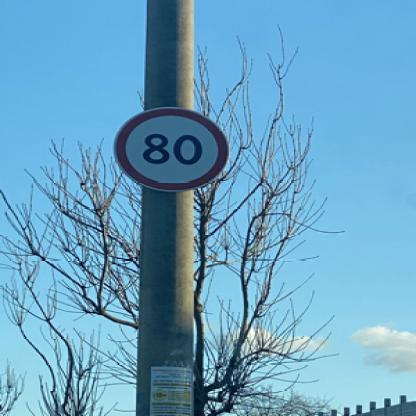speedlimit: (111, 107, 227, 191)
